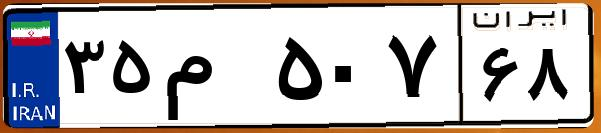0: (330, 28, 385, 110)
3: (57, 26, 110, 100)
5: (270, 28, 330, 110), (110, 28, 158, 98)
6: (475, 38, 525, 113)
7: (385, 28, 445, 110)
8: (525, 38, 570, 115)
م: (158, 20, 270, 120)
